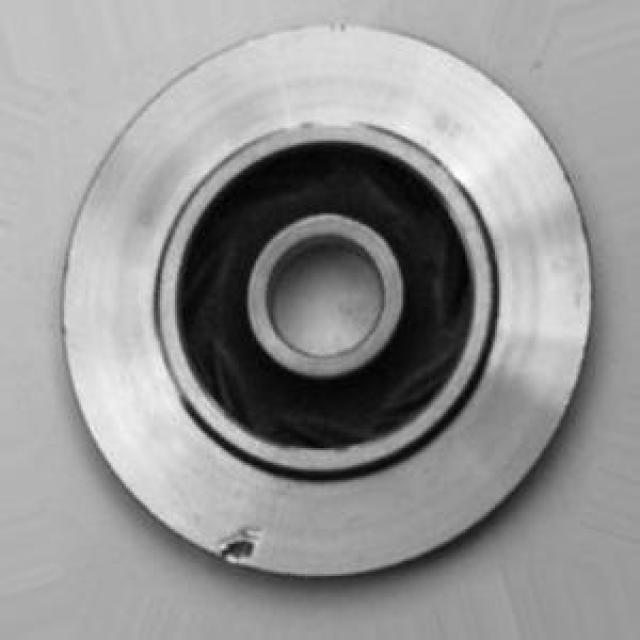Defect: (211, 520, 278, 578)
